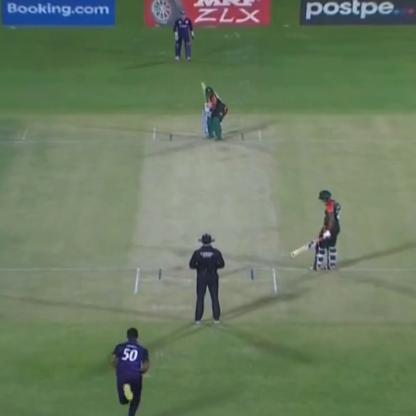bat: (193, 72, 215, 111)
pitch: (122, 119, 286, 306), (288, 225, 322, 259)
